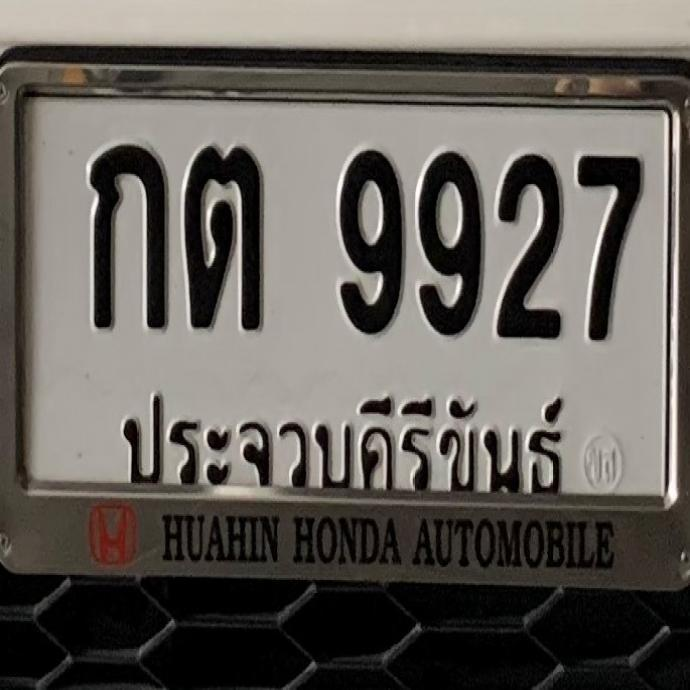2: (494, 149, 563, 339)
7: (575, 149, 643, 339)
9: (414, 146, 485, 336), (335, 145, 403, 335)
A01: (82, 135, 167, 330)
A21: (182, 139, 266, 330)
PKN: (111, 364, 574, 506)
